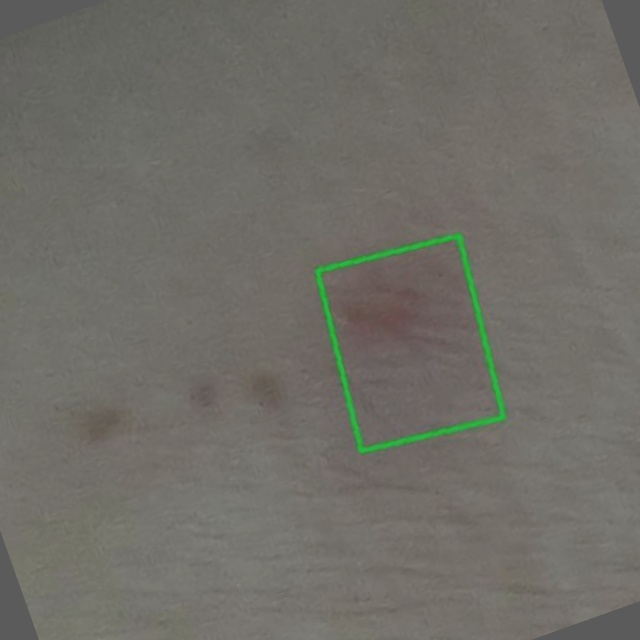Tinea Corporis: (316, 235, 502, 451)
